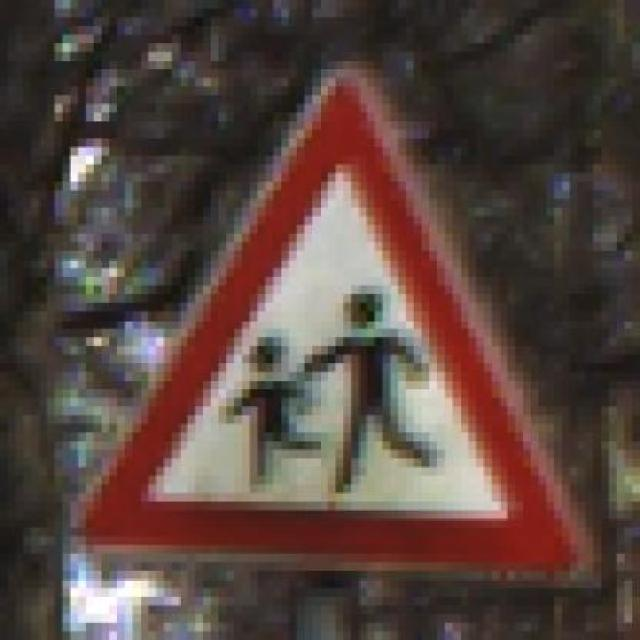Beware of children: (85, 51, 593, 588)
